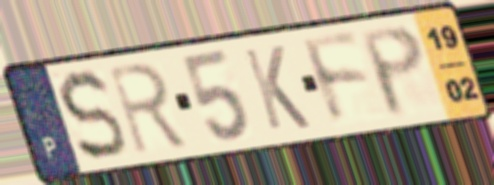5: (177, 46, 253, 144)
F: (297, 30, 374, 130)
K: (239, 43, 314, 133)
P: (355, 22, 428, 121)
R: (104, 59, 192, 158)
S: (55, 67, 131, 165)
